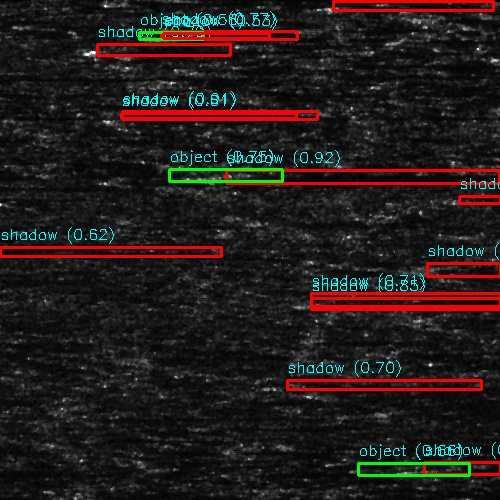rock: (378, 259, 451, 282), (238, 297, 363, 310), (233, 376, 326, 393), (204, 173, 257, 178), (79, 49, 132, 54), (242, 219, 295, 224), (112, 115, 143, 120)
shadow: (280, 376, 500, 393), (301, 297, 470, 310), (415, 259, 500, 282), (0, 73, 164, 82), (231, 173, 500, 178), (0, 241, 135, 248), (0, 76, 260, 79), (128, 115, 283, 120), (0, 388, 57, 401), (0, 184, 144, 189), (0, 273, 75, 282), (0, 251, 223, 254), (269, 219, 354, 224), (106, 49, 181, 54), (0, 193, 40, 200), (117, 179, 199, 182), (0, 464, 13, 475)
